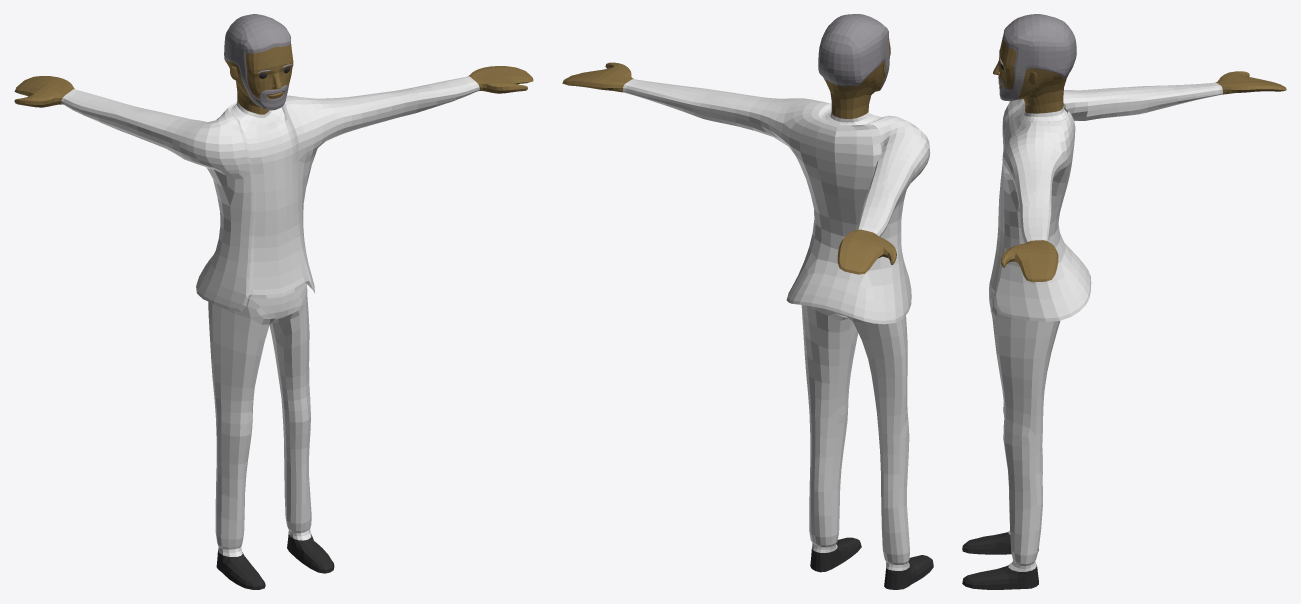
The model's file is SuitVariant_ForMixamo.fbx.
3 views of the same model, side by side, from view 1: azimuth 30°, elevation 25°; view 2: azimuth 150°, elevation 25°; view 3: azimuth 270°, elevation 25° (orthographic). The views are drawn at different scales.
Visible parts, largest first — view 1: SuitVariant_ForMixamo; view 2: SuitVariant_ForMixamo; view 3: SuitVariant_ForMixamo.
Part boxes in pixels (x1,y1,x2,y2): SuitVariant_ForMixamo: (14,14,533,589); SuitVariant_ForMixamo: (562,14,933,589); SuitVariant_ForMixamo: (962,14,1286,589).
Size of the model in its own units: 3.91 by 4.84 by 2.59.
